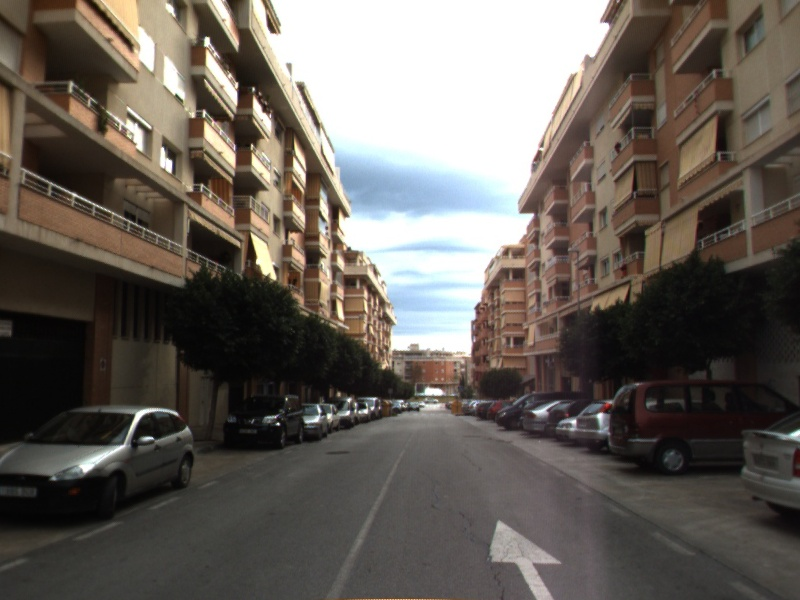STRAIGHT: (484, 517, 565, 600)
